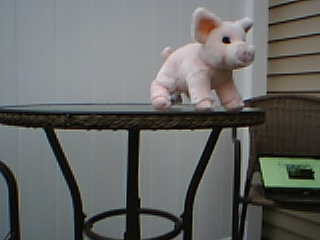piggy: (149, 6, 257, 114)
